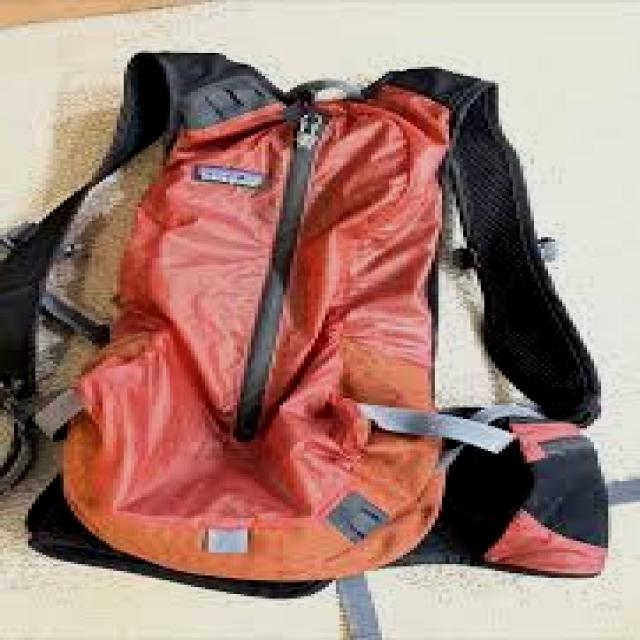backpack: (2, 50, 606, 600)
